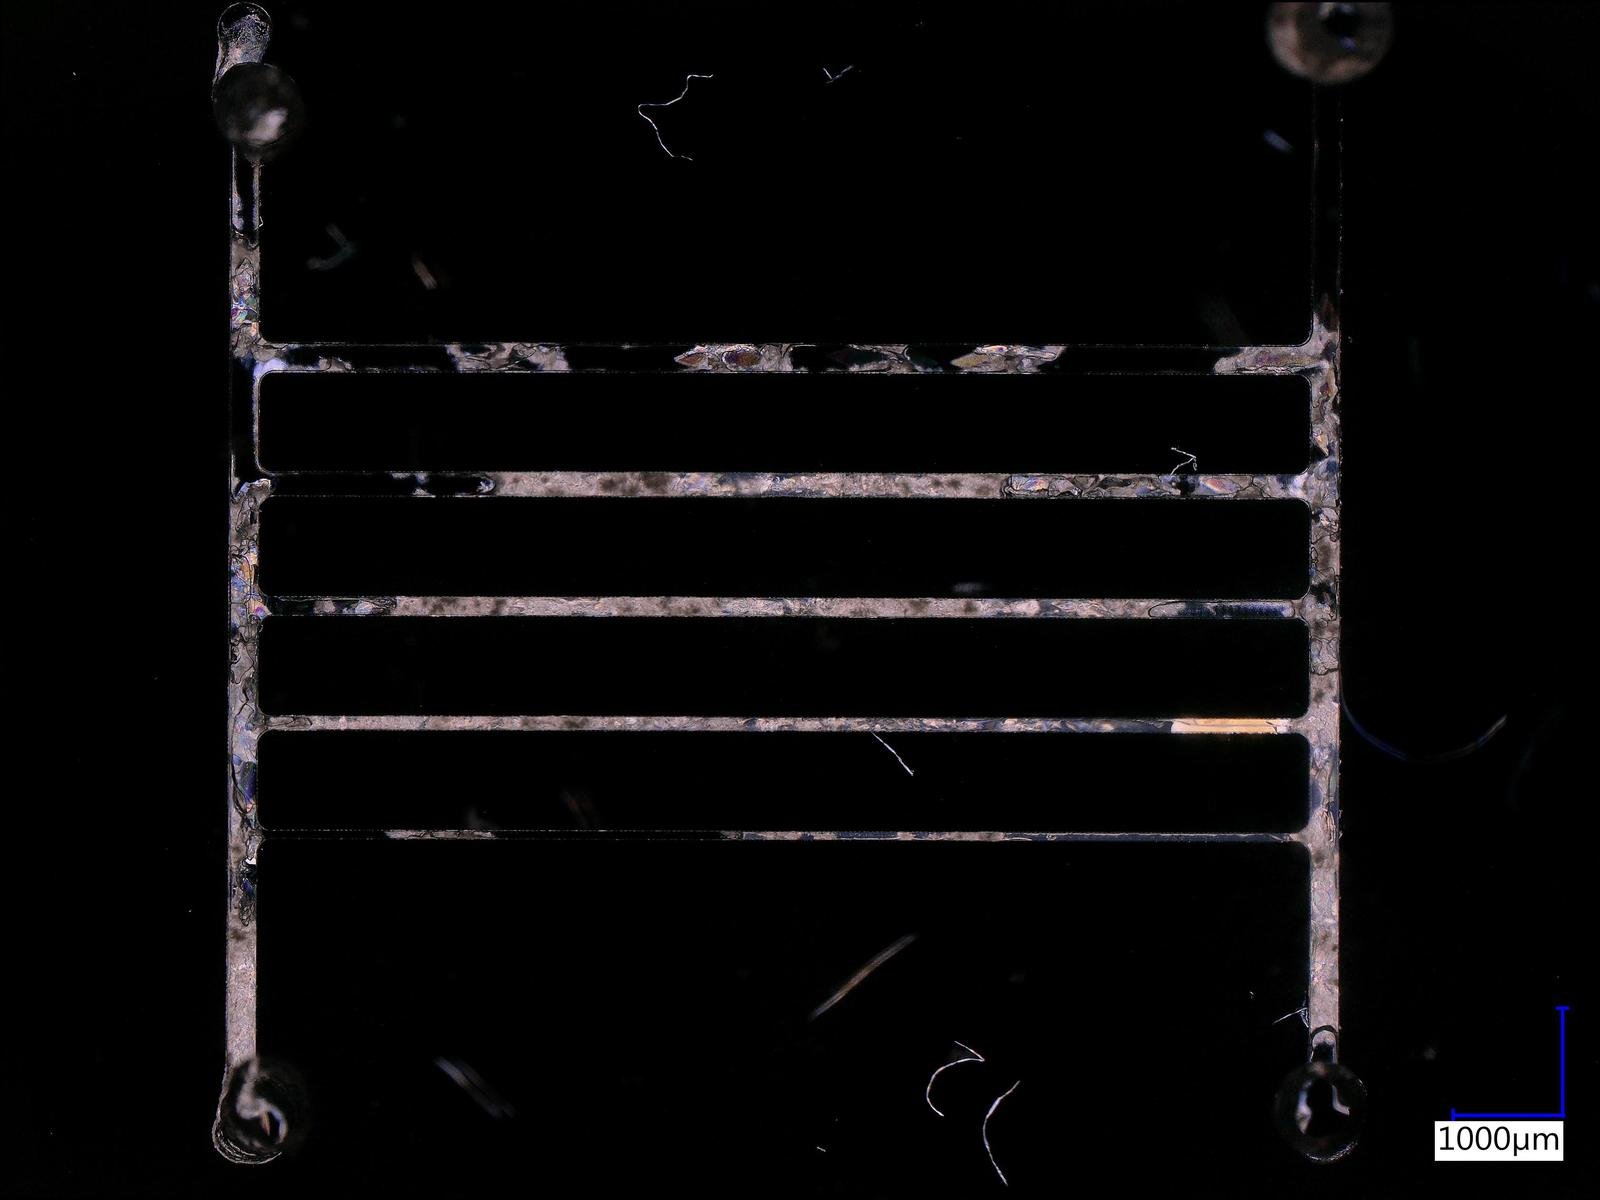sediment: (486, 471, 679, 495), (813, 473, 1002, 495), (355, 715, 648, 729), (1310, 809, 1337, 961), (231, 920, 256, 1060), (815, 597, 994, 616), (388, 596, 493, 616), (1310, 672, 1337, 747)
